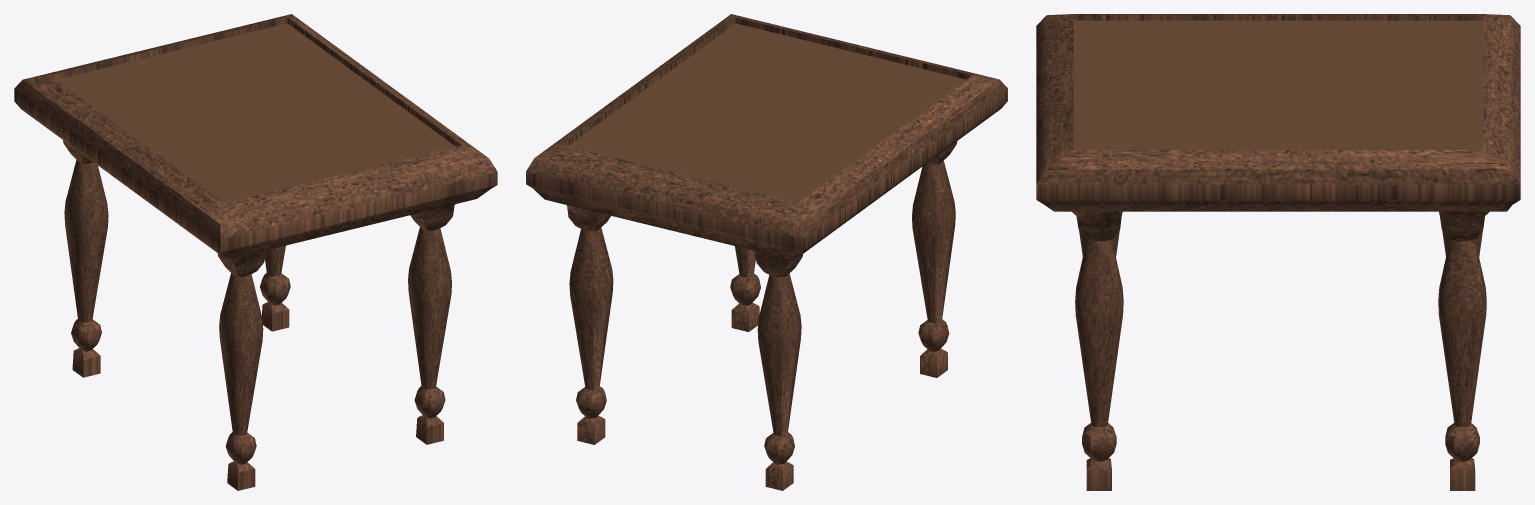
Rendered from side table-updated.fbx.
3 views of the same model, side by side, from view 1: azimuth 30°, elevation 25°; view 2: azimuth 150°, elevation 25°; view 3: azimuth 270°, elevation 25° (orthographic). The views are drawn at different scales.
Parts seen in each view (by area): view 1: Glass_table; view 2: Glass_table; view 3: Glass_table.
Boxes of the visible parts, left/top/right/bottom form: Glass_table: left=14, top=14, right=497, bottom=490; Glass_table: left=526, top=14, right=1007, bottom=490; Glass_table: left=1036, top=14, right=1520, bottom=490.
Bounding box in the file's own units: 6.64 × 6.79 × 8.57.
Materials: 1 (1 with a texture image).
